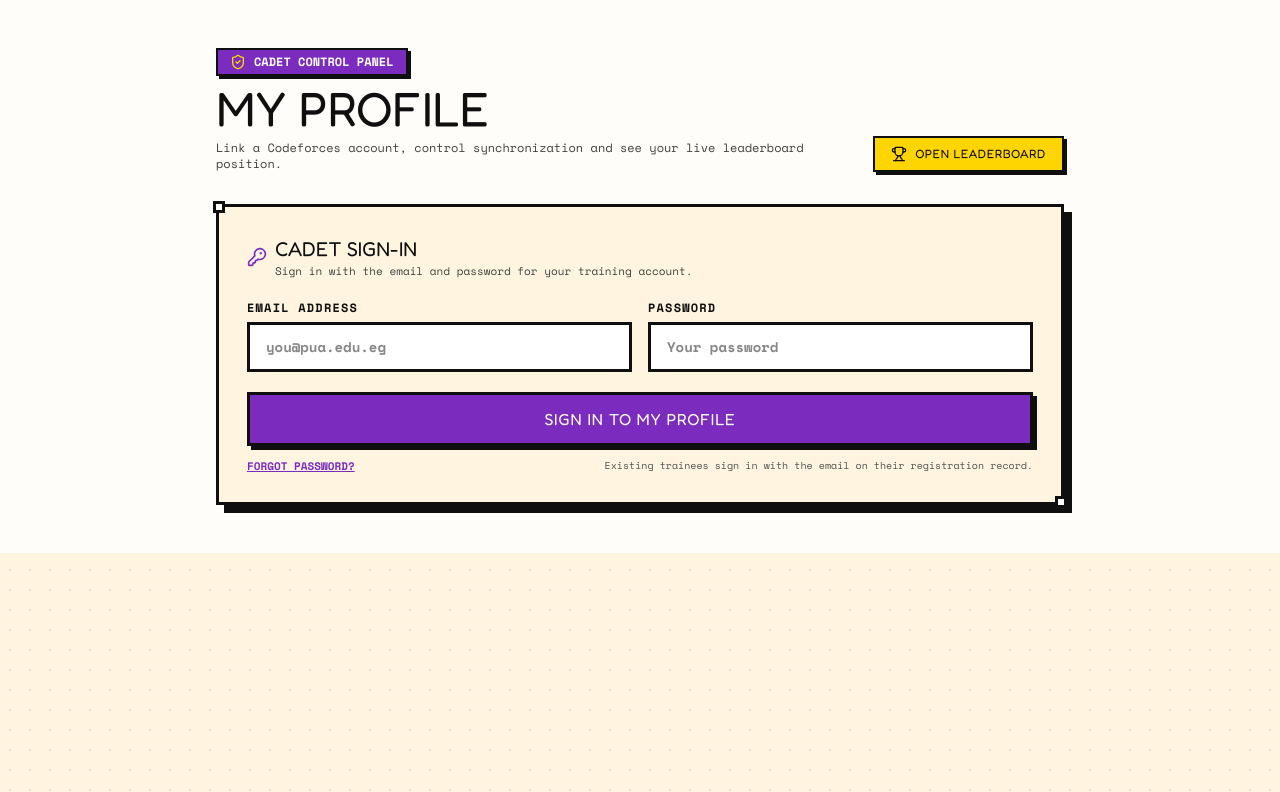
ProfilePage › signs in and loads the dashboard
The width and height of the screenshot is (1280, 792).
Type "ahmed@example.com" into the field with placeholder "you@pua.edu.eg" at {"x": 440, "y": 346}, box [247,322,632,372]
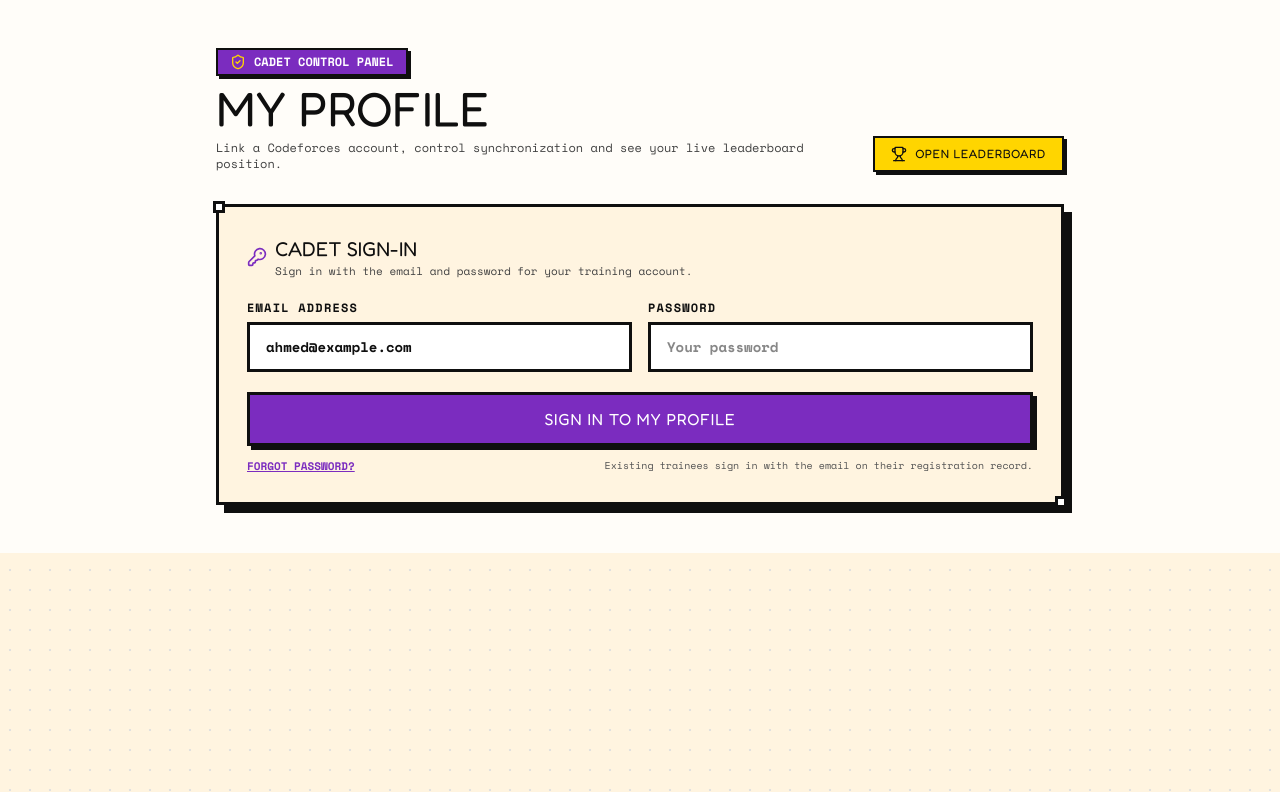
Type "correct-horse" into the password field with placeholder "Your password" at {"x": 840, "y": 346}, box [648,322,1033,372]
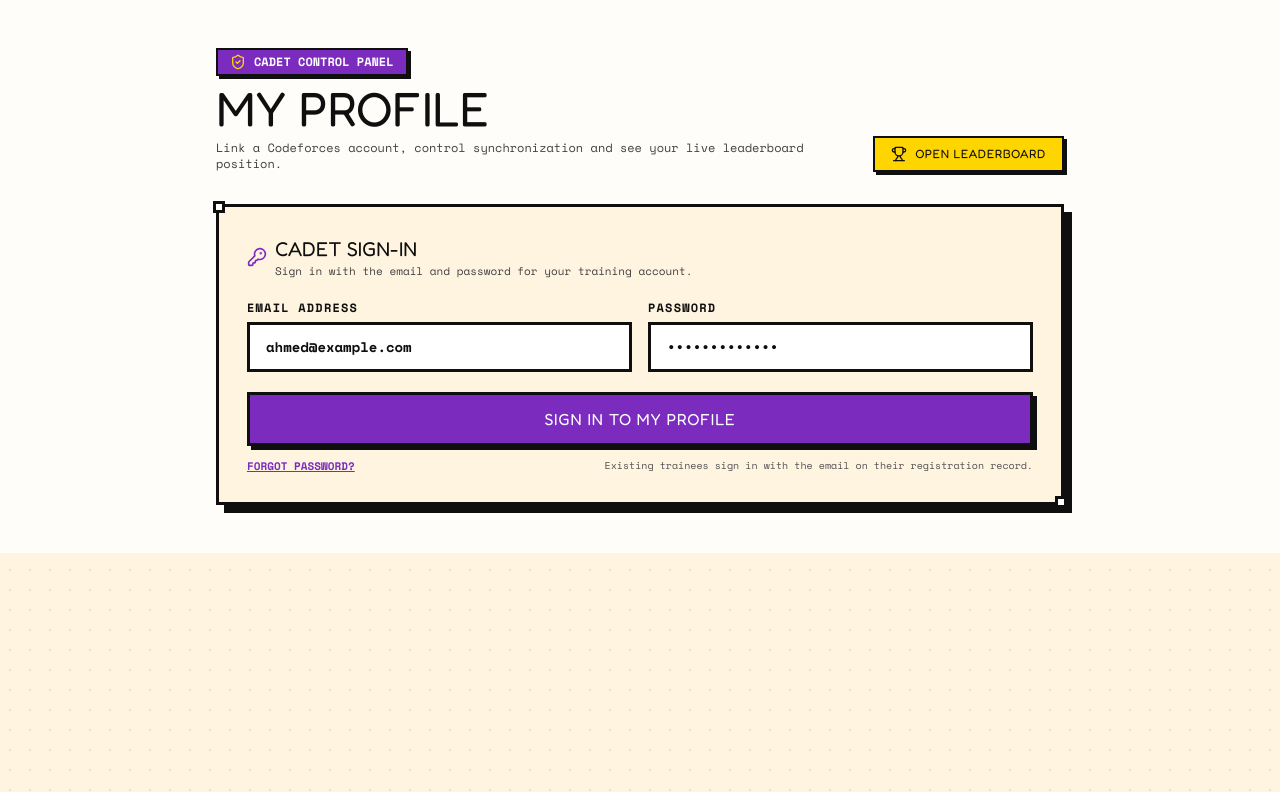
Click the button "Sign in to my profile" at {"x": 640, "y": 418}, box [247,392,1033,446]
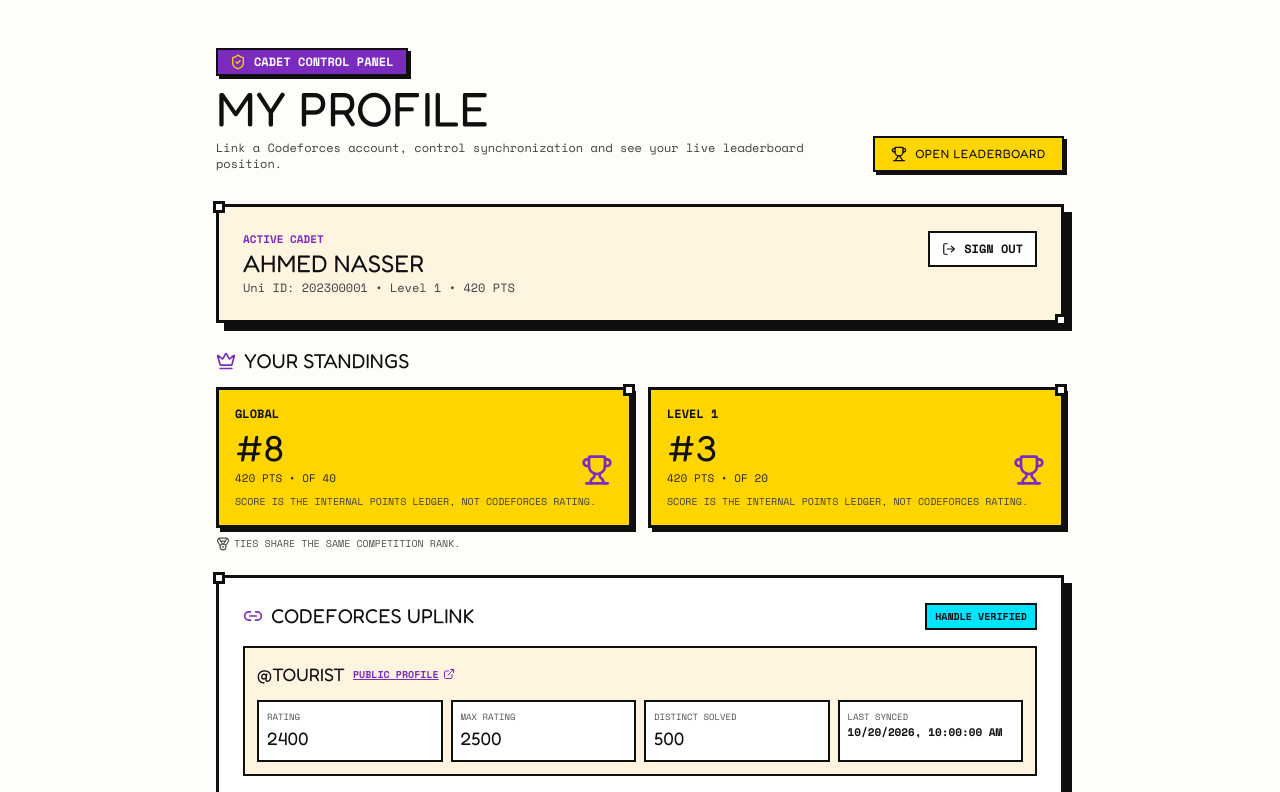
Now the heading "Ahmed Nasser" is shown, box [243,248,424,278]
